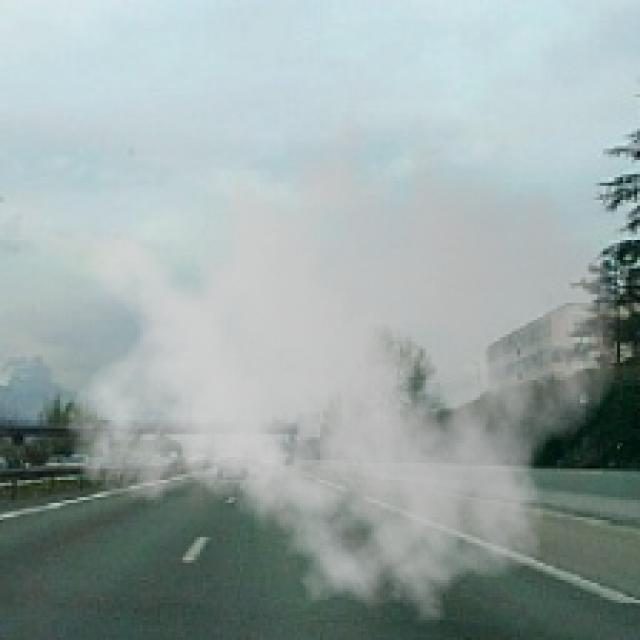smoke: (63, 80, 620, 637)
